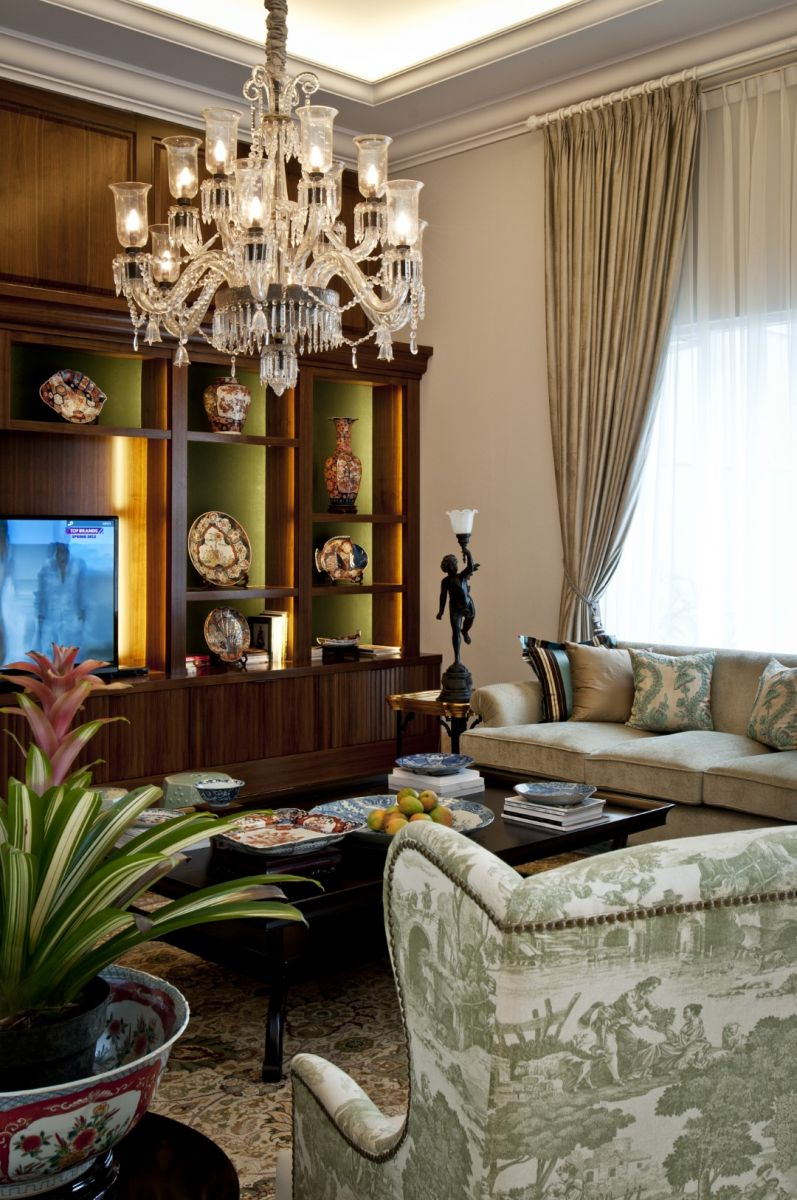bantal: (624, 646, 722, 733), (562, 634, 635, 725), (745, 659, 797, 747)
buku: (495, 792, 617, 832), (381, 768, 492, 797)
meja: (135, 780, 671, 1005)
sova: (375, 825, 797, 1200), (459, 634, 797, 818)
tanaman: (1, 647, 230, 1194)
tv: (1, 510, 134, 684)
